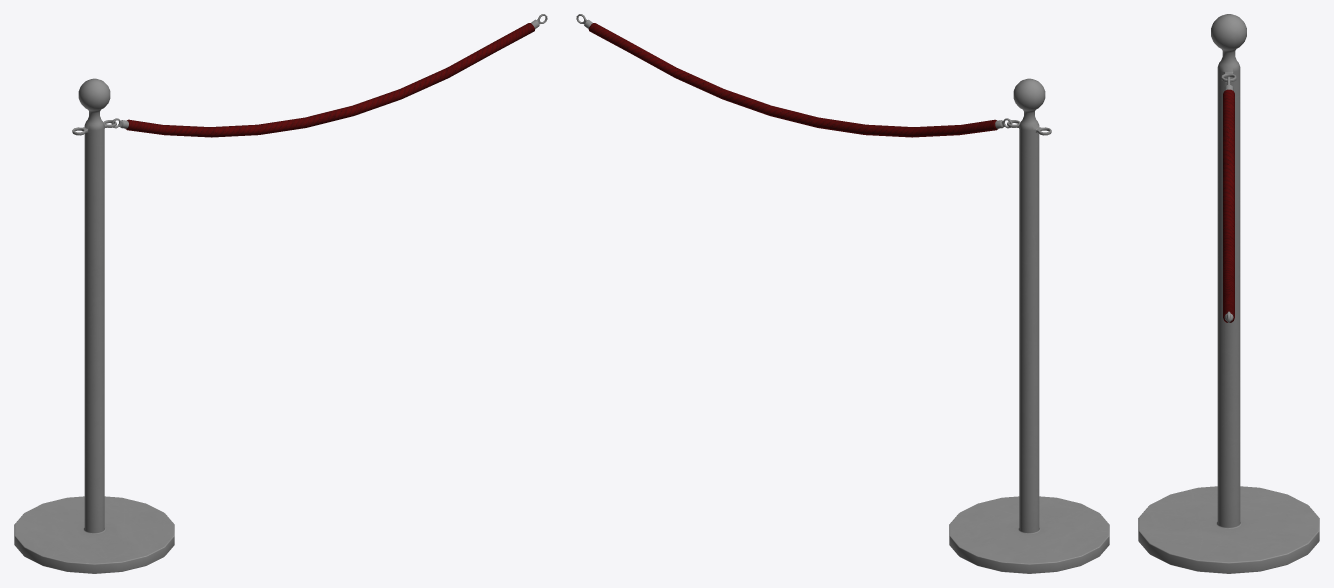
File: RopeStand_Half.FBX
The picture shows the model from 3 angles, left to right: view 1: azimuth 30°, elevation 25°; view 2: azimuth 150°, elevation 25°; view 3: azimuth 270°, elevation 25°; orthographic projection. The views are drawn at different scales.
Visible parts, largest first — view 1: RopeStand_Half; view 2: RopeStand_Half; view 3: RopeStand_Half.
Boxes of the visible parts, <box> form: RopeStand_Half: <box>14,14,547,573</box>; RopeStand_Half: <box>576,14,1109,573</box>; RopeStand_Half: <box>1138,14,1319,573</box>.
Size of the model in its own units: 111 by 93.52 by 29.54.
